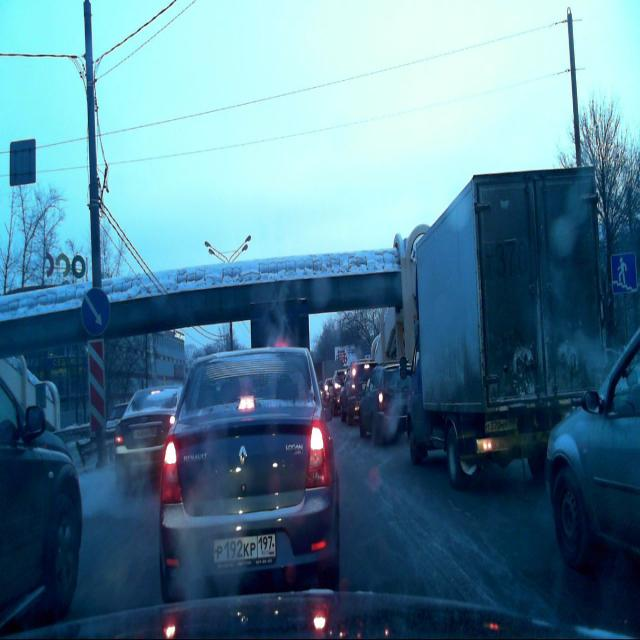object: (86, 342, 107, 434)
road sign: (608, 253, 638, 293)
